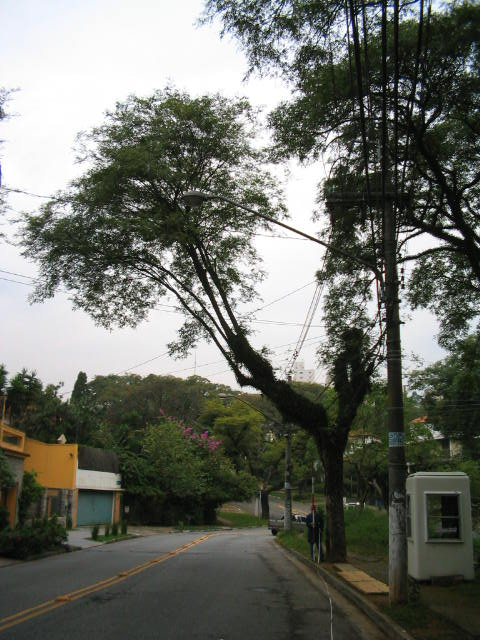crown: (21, 77, 439, 344)
stem: (317, 451, 359, 564)
stick: (306, 460, 318, 560)
tree: (16, 73, 440, 564)
